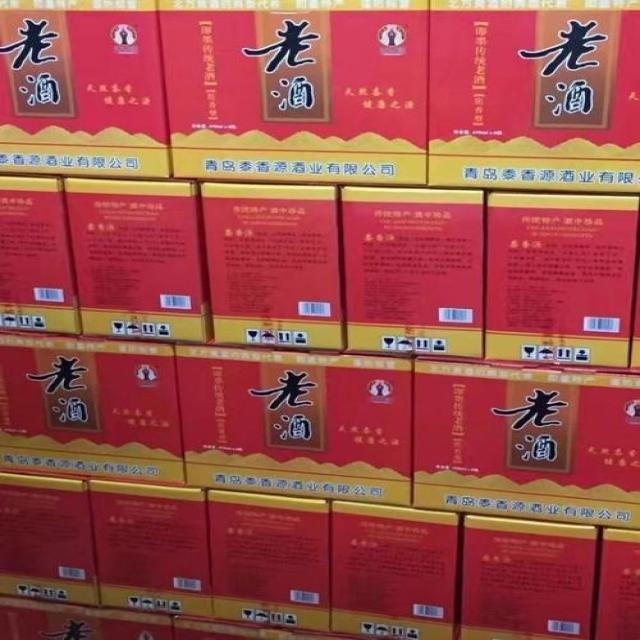box: (160, 1, 428, 182), (426, 0, 640, 191), (413, 356, 640, 529), (177, 343, 413, 506), (0, 0, 173, 178), (0, 330, 187, 486), (485, 191, 637, 367), (340, 185, 485, 358), (63, 178, 214, 342), (201, 182, 344, 349), (330, 499, 458, 640), (206, 489, 330, 632), (460, 514, 598, 640), (88, 479, 211, 618), (0, 472, 100, 605), (0, 598, 174, 639), (593, 528, 640, 640), (177, 615, 376, 639), (626, 269, 639, 367)
